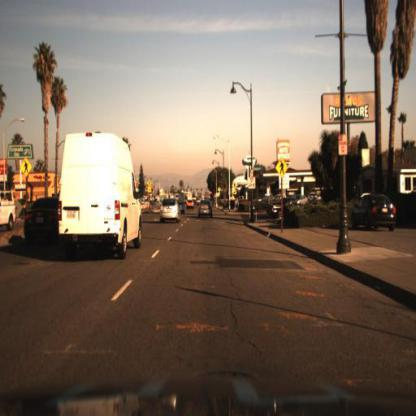car: (57, 132, 146, 261), (23, 190, 63, 244), (351, 189, 398, 234), (267, 196, 296, 224), (159, 198, 182, 227), (197, 199, 216, 226), (293, 192, 311, 211), (189, 193, 201, 211)
pedestrian: (234, 194, 240, 216)
truck: (54, 127, 140, 264)
